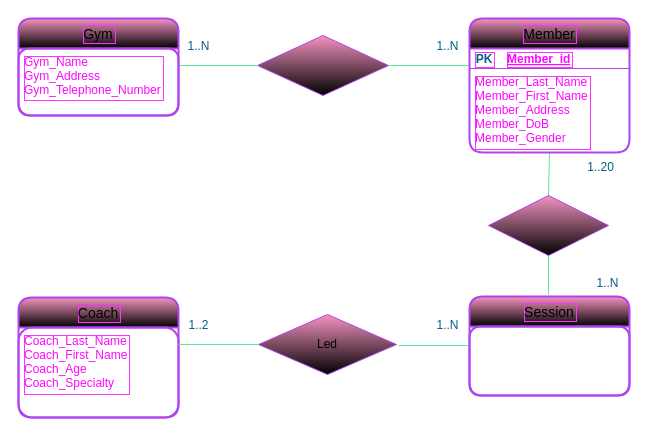
The diagram is 647 pixels wide and 435 high, and some of its shapes have lost their labels. Here are the shapes that lost their labels. From the top down, the centre of each, then its label:
the point at 322,65: Register
the point at 548,225: Accommodate
the point at 549,360: Type_Of_Sport Session_Schedule
